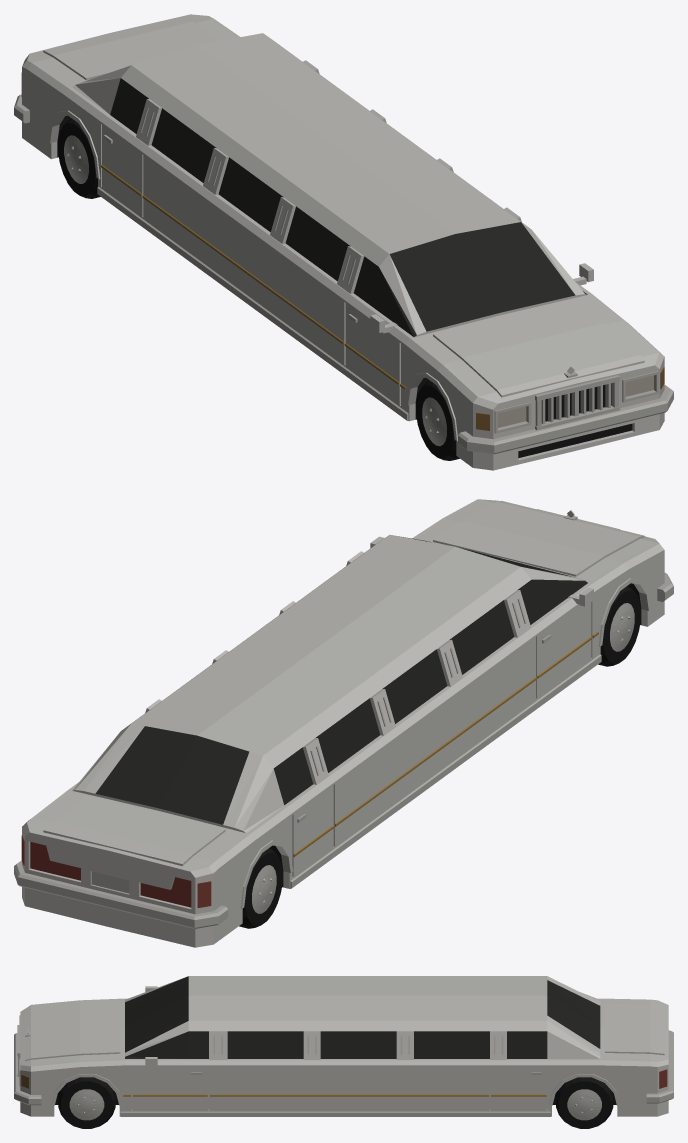
Rendered from stretch-limousine-284b73.glb.
3 views of the same model, one above another, from view 1: azimuth 30°, elevation 25°; view 2: azimuth 150°, elevation 25°; view 3: azimuth 270°, elevation 25° (orthographic). The views are drawn at different scales.
Parts seen in each view (by area): view 1: body, wheel-fr, wheel-rr; view 2: body, wheel-rr, wheel-fr; view 3: body, wheel-fl, wheel-rl.
Part boxes in pixels (<box>): body: <box>14,14,673,470</box>; wheel-fr: <box>416,380,459,460</box>; wheel-rr: <box>58,118,100,198</box>; body: <box>14,499,673,947</box>; wheel-rr: <box>239,848,282,928</box>; wheel-fr: <box>598,586,640,666</box>; body: <box>14,976,673,1116</box>; wheel-fl: <box>58,1077,115,1128</box>; wheel-rl: <box>556,1077,613,1128</box>.
Size of the model in its own units: 2.22 by 1.47 by 8.5.
